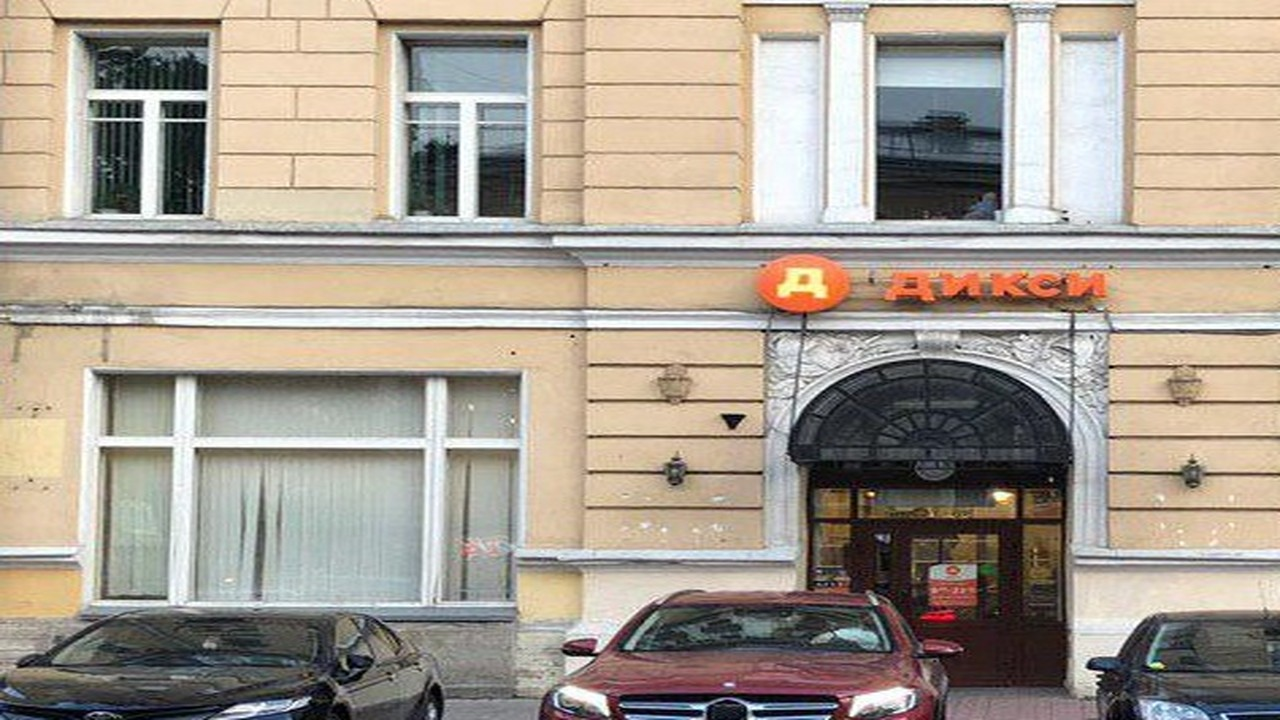signboard: (748, 242, 1105, 313)
window: (93, 374, 520, 606), (875, 36, 1002, 222), (397, 39, 529, 217), (84, 41, 207, 217)
